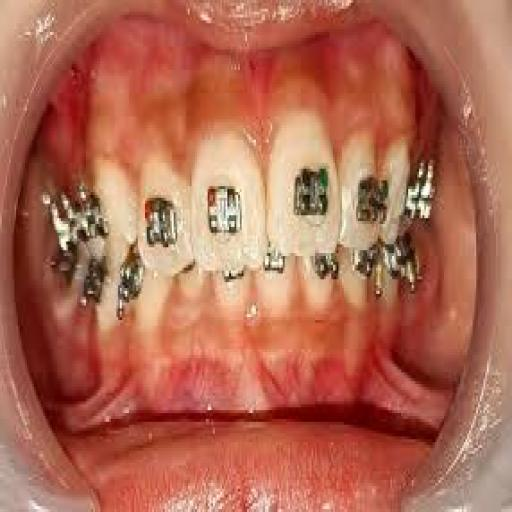correct_brace: (290, 157, 334, 224), (141, 190, 179, 255), (206, 176, 246, 237), (352, 172, 392, 229)
incorrect_brace: (134, 146, 192, 274), (341, 122, 393, 257)
